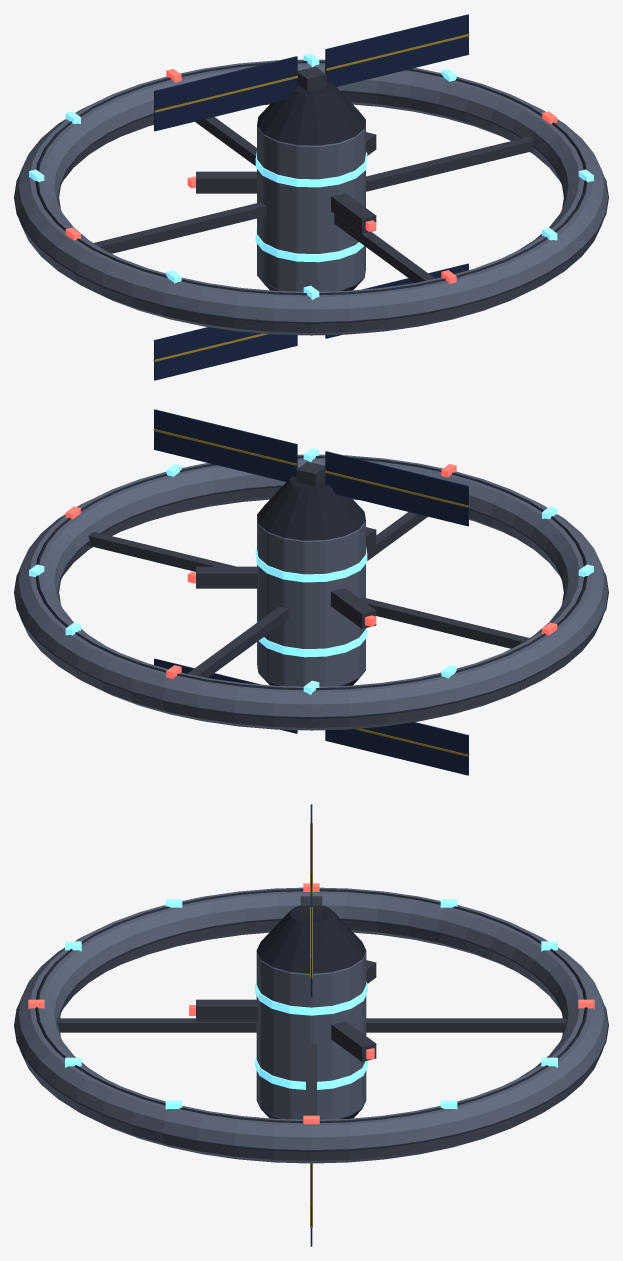
The model's file is station.glb.
3 views of the same model, one above another, from view 1: azimuth 30°, elevation 25°; view 2: azimuth 150°, elevation 25°; view 3: azimuth 270°, elevation 25° (orthographic).
Visible parts, largest first — view 1: Ring, station; view 2: Ring, station; view 3: Ring, station.
Boxes of the visible parts, x1=… form: Ring: x1=14, y1=53, x2=608, y2=335; station: x1=153, y1=14, x2=469, y2=380; Ring: x1=14, y1=448, x2=608, y2=730; station: x1=153, y1=409, x2=469, y2=775; Ring: x1=14, y1=883, x2=608, y2=1163; station: x1=189, y1=804, x2=376, y2=1246.
Size of the model in its own units: 21.64 by 11.6 by 21.64.
1 material, 1 textured.
